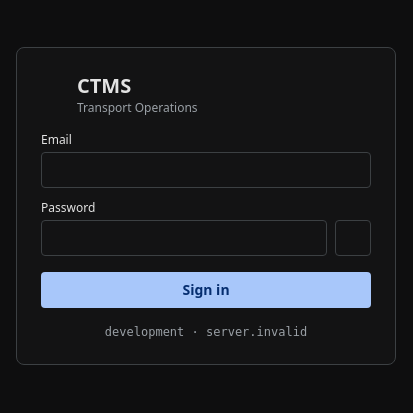
signing in › shows the server refusal and never says whether the address exists
Expected: the button "Sign in" is shown, x1=41 y1=272 x2=371 y2=308
Type "priya@ctms.example" into the field labelled "Email" at (206, 170), box x1=41 y1=152 x2=371 y2=188
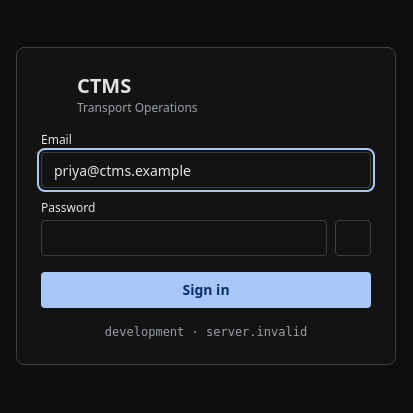
Type "wrong" into the password field labelled "Password" at (184, 238), box x1=41 y1=220 x2=327 y2=256
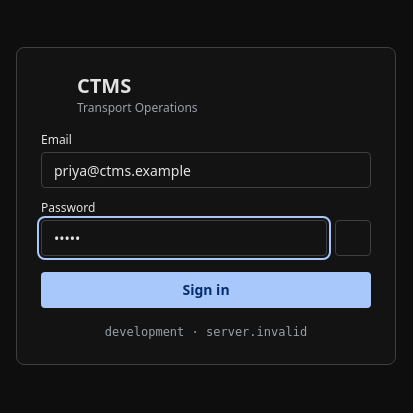
Click the button "Sign in" at (206, 290), box x1=41 y1=272 x2=371 y2=308
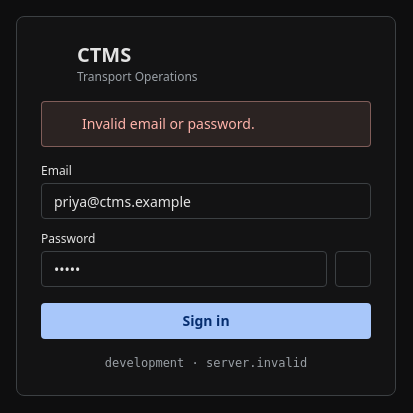
Result: the message reads "Invalid email or password." at x1=82 y1=114 x2=255 y2=133
